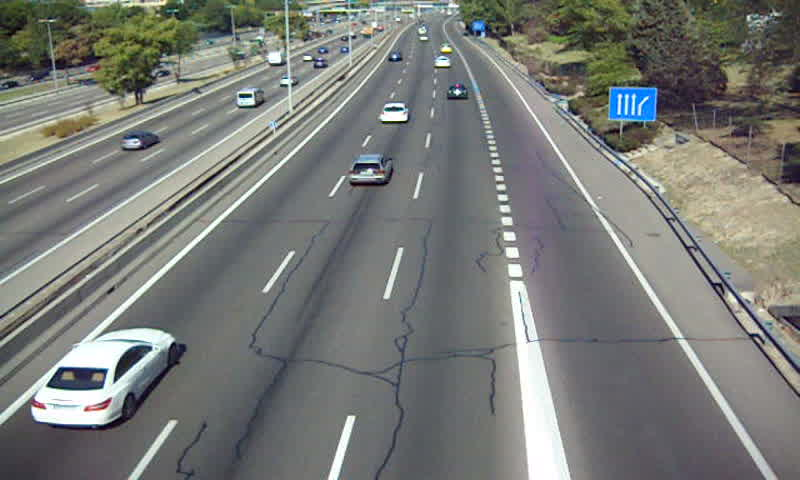car: (30, 328, 178, 429), (350, 155, 392, 185), (378, 102, 410, 123), (447, 84, 467, 101)
